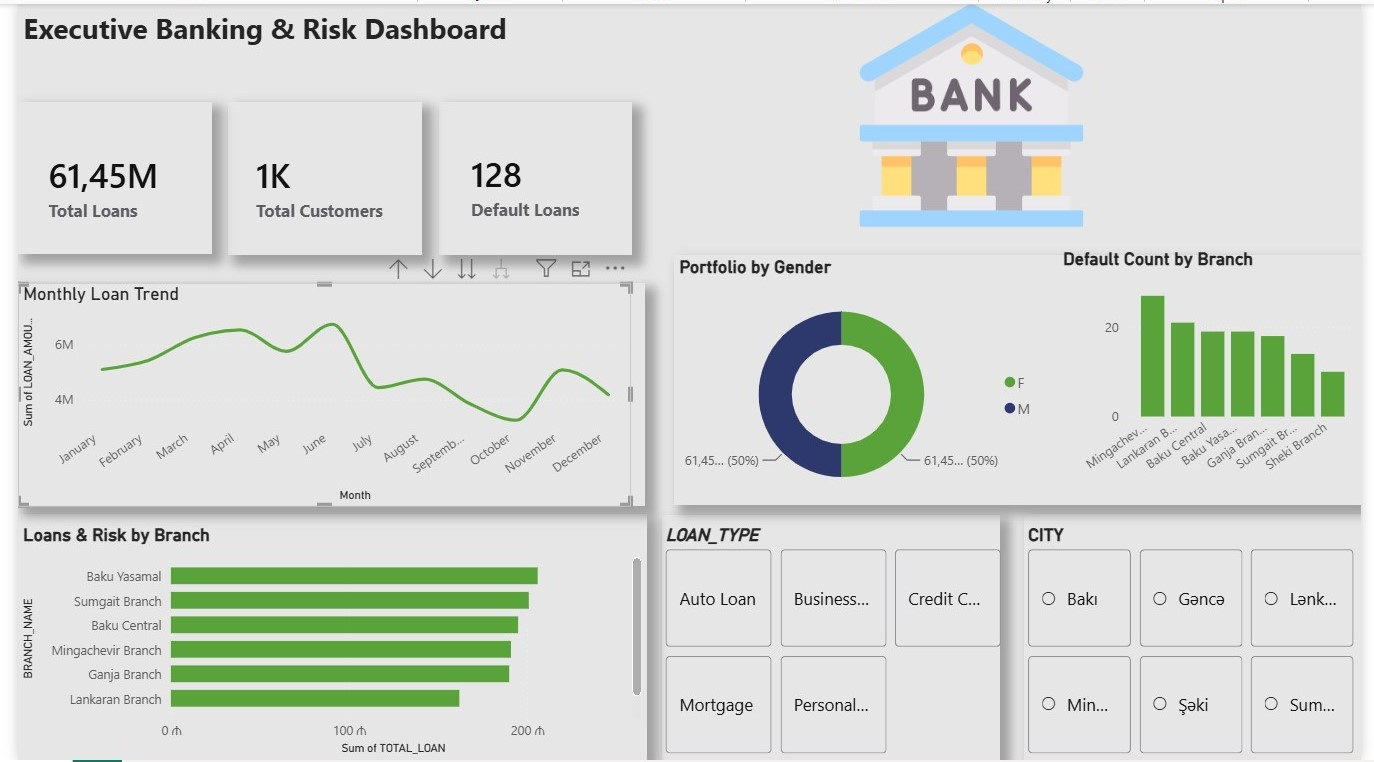

The dashboard page shown, as its layout file describes it:
{"tool":"powerbi","page":{"name":"Page 1","canvas":[1280,720],"ordinal":0},"visuals":[{"type":"shape","box":[0,92.5,185,145],"z":0},{"type":"shape","box":[200,92.5,185,146.2],"z":1000},{"type":"shape","box":[401.2,92.5,183.8,146.2],"z":2000},{"type":"shape","box":[0,265,597.5,212.5],"z":3000},{"type":"shape","box":[625,238.8,655,237.5],"z":4000},{"type":"shape","box":[0,485.7,598.8,234.5],"z":5000},{"type":"cardVisual","fields":{"Data":["Sum(LOANS.LOAN_AMOUNT)"]},"box":[0,105,200,138.8],"z":6000},{"type":"cardVisual","fields":{"Data":["Count(CUSTOMERS.CUSTOMER_ID)"]},"box":[197.6,109.5,186.9,129.8],"z":7000},{"type":"cardVisual","fields":{"Data":["Sum(VW_BRANCH_RISK_SUMMARY.DEFAULT_COUNT)"]},"box":[402.4,106,196.4,134.5],"z":8000},{"type":"lineChart","title":"Monthly Loan Trend","fields":{"Category":["LOANS.START_DATE.Variation.Date Hierarchy.Year","LOANS.START_DATE.Variation.Date Hierarchy.Quarter","LOANS.START_DATE.Variation.Date Hierarchy.Month","LOANS.START_DATE.Variation.Date Hierarchy.Day"],"Y":["Sum(LOANS.LOAN_AMOUNT)"]},"box":[0,265,585,213.8],"z":9000},{"type":"donutChart","title":" Portfolio by Gender","fields":{"Category":["CUSTOMERS.GENDER"],"Y":["Sum(LOANS.LOAN_AMOUNT)"]},"box":[625,240,353.8,243.8],"z":10000},{"type":"clusteredBarChart","title":"Loans & Risk by Branch","fields":{"Category":["BRANCHES.BRANCH_NAME"],"Y":["Sum(VW_BRANCH_RISK_SUMMARY.TOTAL_LOAN)"]},"box":[-0.4,495.7,598.8,225],"z":11000},{"type":"shape","box":[612.7,486.4,322.6,234.5],"z":12000},{"type":"advancedSlicerVisual","fields":{"Values":["LOANS.LOAN_TYPE"]},"box":[612.1,495.7,330,225],"z":13000},{"type":"shape","box":[958.3,485.7,321.4,234.5],"z":14000},{"type":"advancedSlicerVisual","fields":{"Values":["BRANCHES.CITY"]},"box":[957.5,495,322.5,225],"z":15000},{"type":"textbox","box":[0,0,642.5,150],"z":16000},{"type":"clusteredColumnChart","title":"Default Count by Branch","fields":{"Category":["BRANCHES.BRANCH_NAME"],"Y":["Sum(VW_BRANCH_RISK_SUMMARY.DEFAULT_COUNT)"]},"box":[990,232.5,290,243.8],"z":17000},{"type":"image","box":[537.5,0,742.5,212.5],"z":18000}]}

Visuals, with their boxes on the page's 1280x720 design canvas (x1, y1, x2, y2). These are canvas units, not pixel positions in the 1374x762 screenshot, which may show the page scaled, cropped or inside an application window:
shape: l=0, t=92, r=185, b=238
shape: l=200, t=92, r=385, b=239
shape: l=401, t=92, r=585, b=239
shape: l=0, t=265, r=598, b=478
shape: l=625, t=239, r=1280, b=476
shape: l=0, t=486, r=599, b=720
cardVisual - Sum(LOANS.LOAN_AMOUNT): l=0, t=105, r=200, b=244
cardVisual - Count(CUSTOMERS.CUSTOMER_ID): l=198, t=110, r=384, b=239
cardVisual - Sum(VW_BRANCH_RISK_SUMMARY.DEFAULT_COUNT): l=402, t=106, r=599, b=240
"Monthly Loan Trend" lineChart: l=0, t=265, r=585, b=479
" Portfolio by Gender" donutChart: l=625, t=240, r=979, b=484
"Loans & Risk by Branch" clusteredBarChart: l=0, t=496, r=598, b=721
shape: l=613, t=486, r=935, b=721
advancedSlicerVisual - LOANS.LOAN_TYPE: l=612, t=496, r=942, b=721
shape: l=958, t=486, r=1280, b=720
advancedSlicerVisual - BRANCHES.CITY: l=958, t=495, r=1280, b=720
textbox: l=0, t=0, r=642, b=150
"Default Count by Branch" clusteredColumnChart: l=990, t=232, r=1280, b=476
image: l=538, t=0, r=1280, b=212
